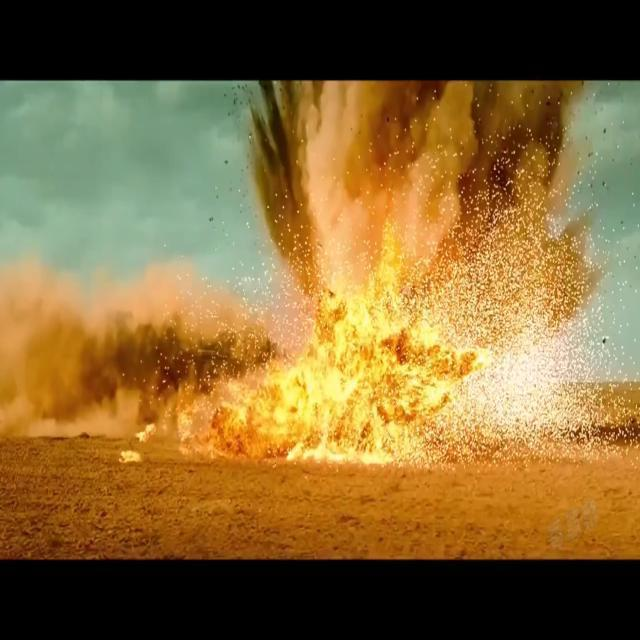fire: (118, 83, 640, 477)
